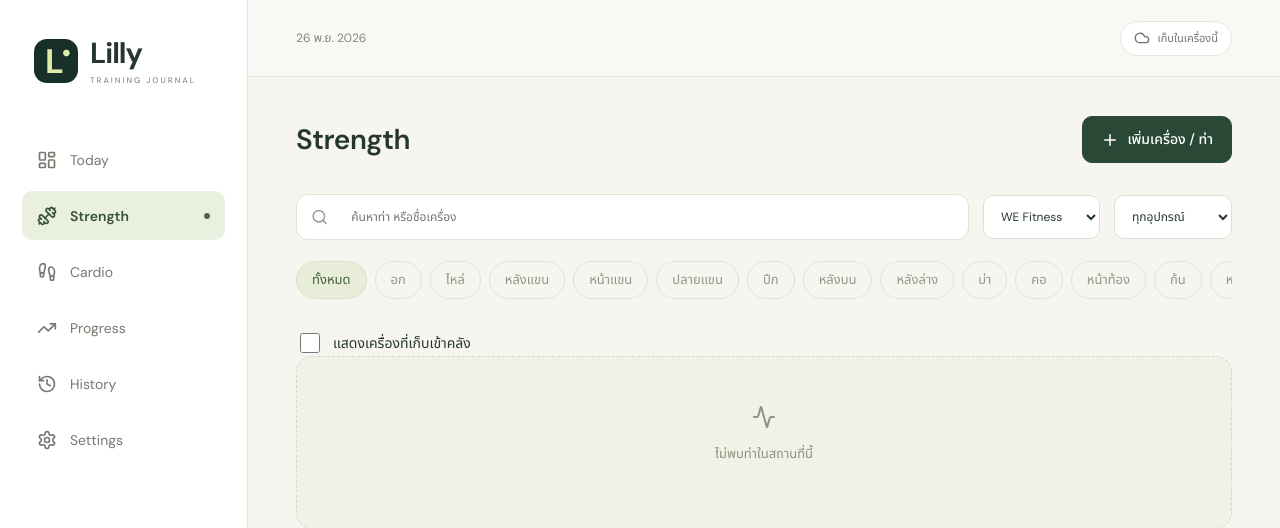
Test case: shows Two-Hand Kettlebell Swing under the home filter with editable photos
Later steps or results of the test are not shown.
Select "ที่บ้าน" in the dropdown named "ฟิตเนส" at [1042, 217], box [983,195,1100,239]
(page scrolled)
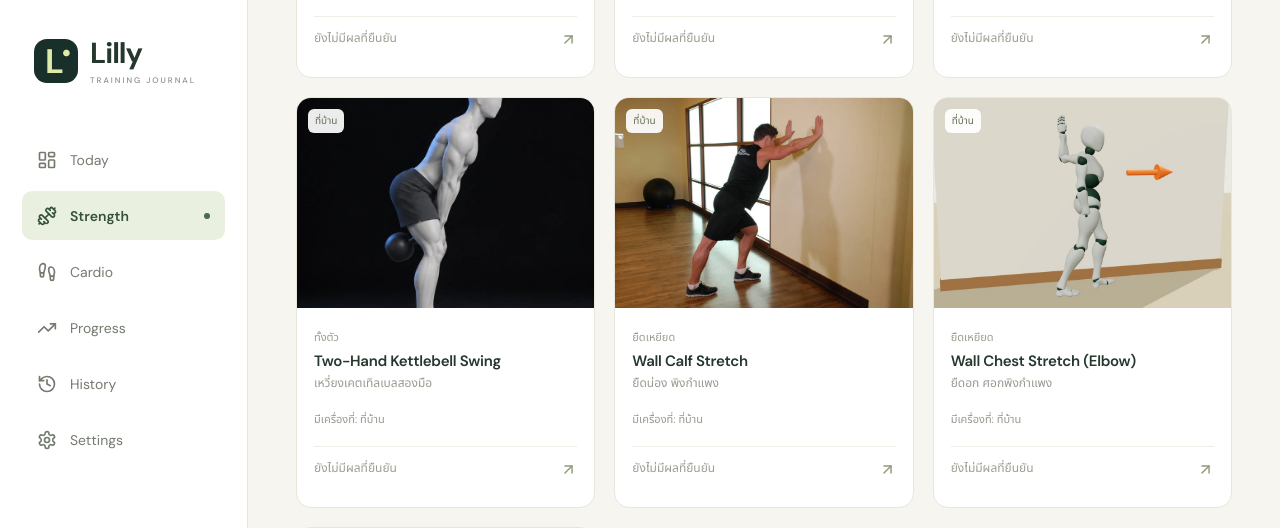
Click the heading "Two-Hand Kettlebell Swing" at [408, 361], box [314,351,501,371]
(page scrolled)
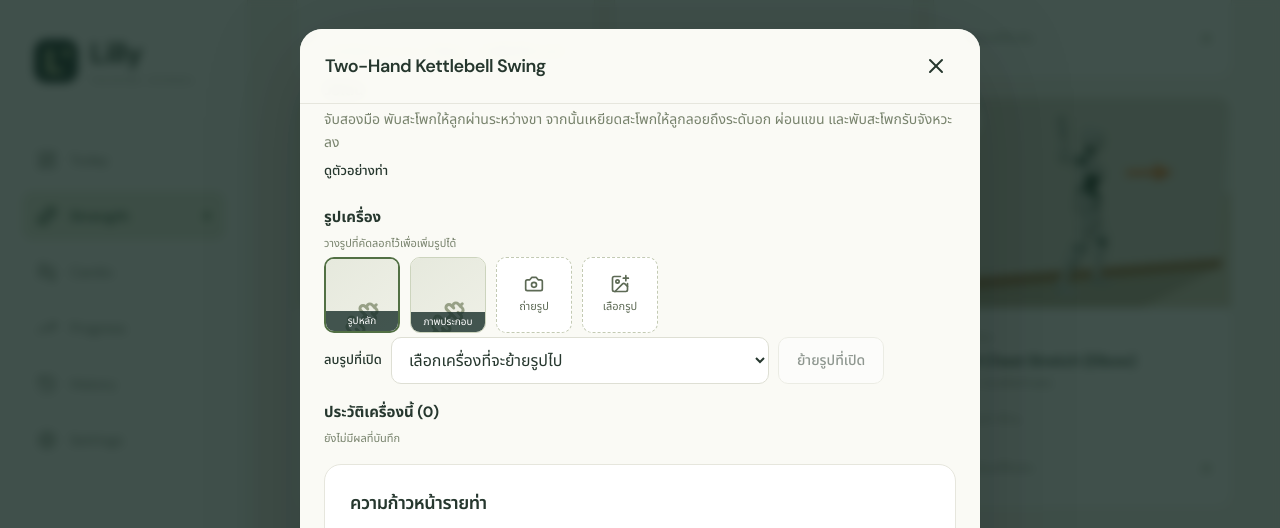
Result: the button "รูปหลัก" is shown at [324,257,400,333]
Result: the number of buttons named "เปิดรูปเครื่อง" is 1 at [410,257,486,333]
Result: the file field labelled "เลือกรูป" is shown at [582,257,658,333]
